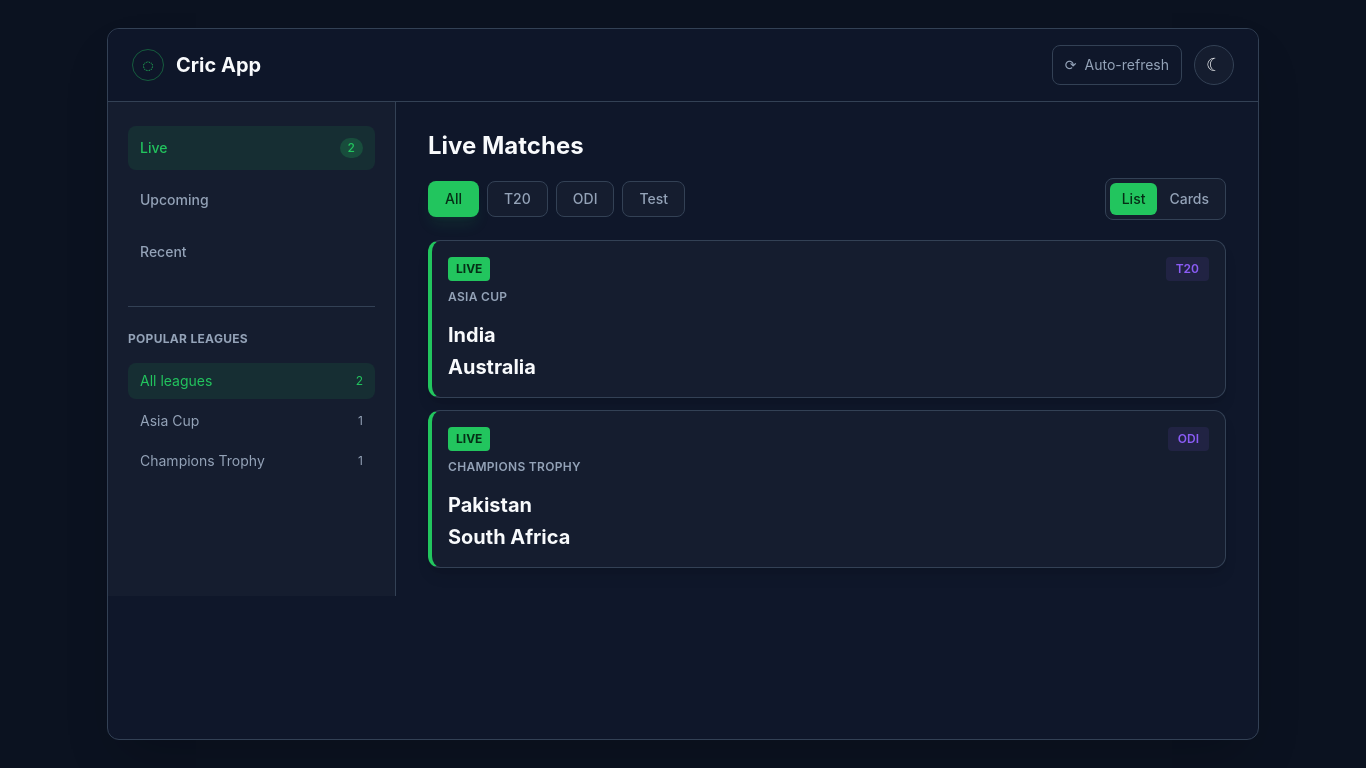
MatchListPage › filters matches by selected league from the desktop sidebar
Expected: the heading "India" is shown, [448,323,496,347]
Expected: the heading "Pakistan" is shown, [448,493,532,517]
Click the button with aria-label "Filter league Champions Trophy". click: click(252, 461)
box: [128,443,375,479]
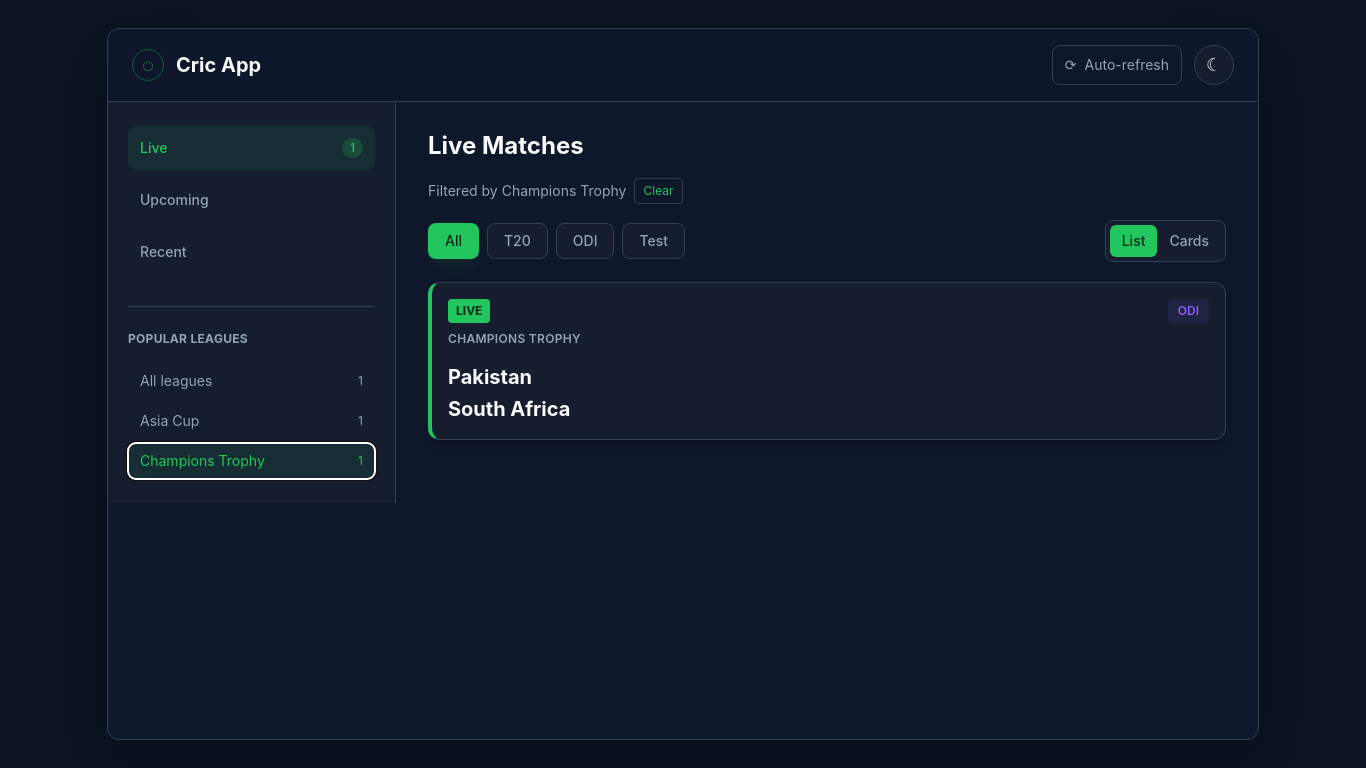
Expected: the heading "Pakistan" is shown, [448,365,532,389]
Expected: the text "Filtered by Champions Trophy" is shown, [428,181,626,201]
Expected: the button "India" is gone
Click the button "Clear". click: click(658, 191)
box: [634,178,682,204]
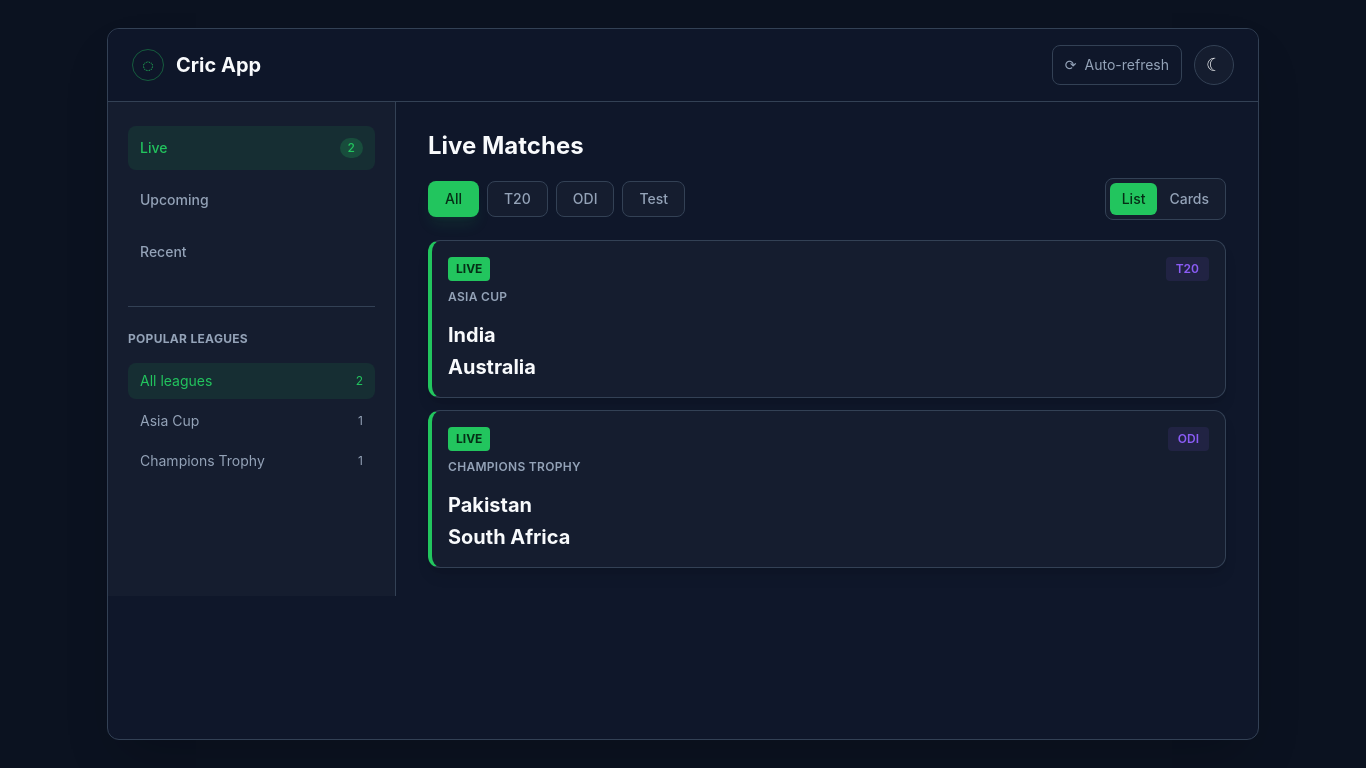
Expected: the heading "Pakistan" is shown, [448,493,532,517]
Expected: the heading "India" is shown, [448,323,496,347]
